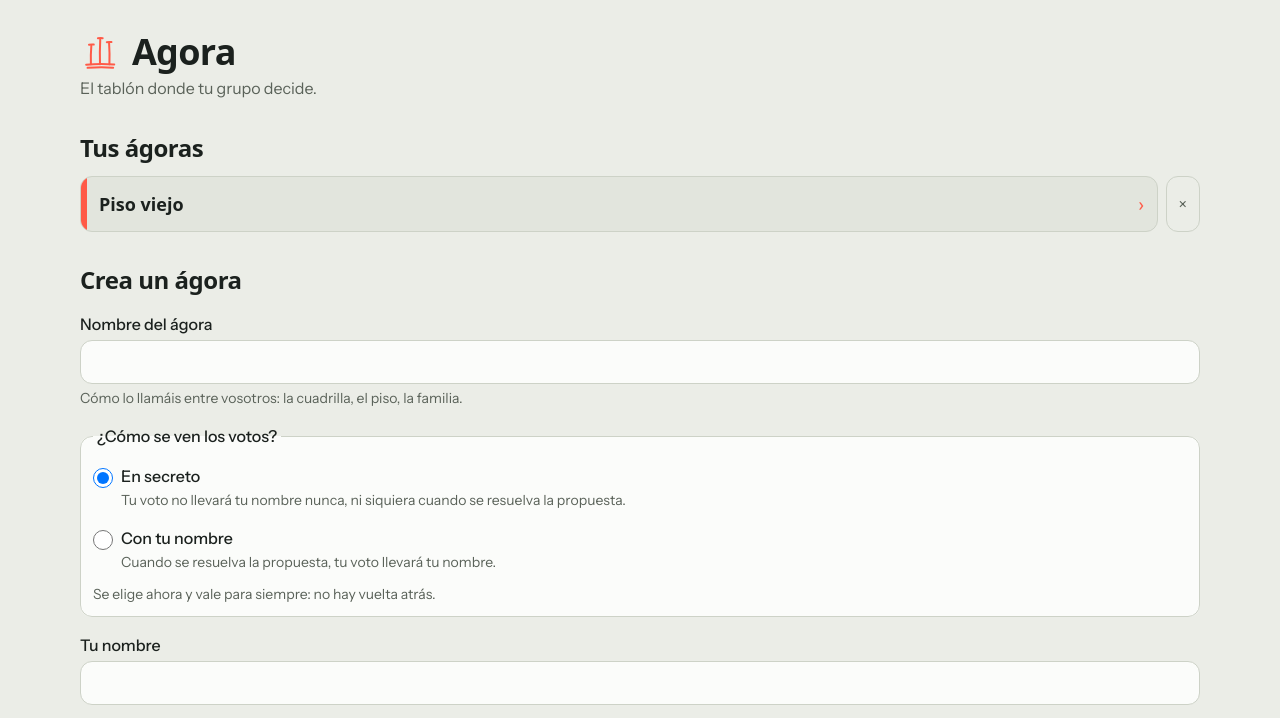
Test: AgoraApp con el adaptador real de ágoras visitadas › quitar una ágora que no se puede guardar avisa y no la borra de la vista
Click the button named "Quitar Piso viejo de tu lista" at (1183, 204), box [1166,176,1200,232]
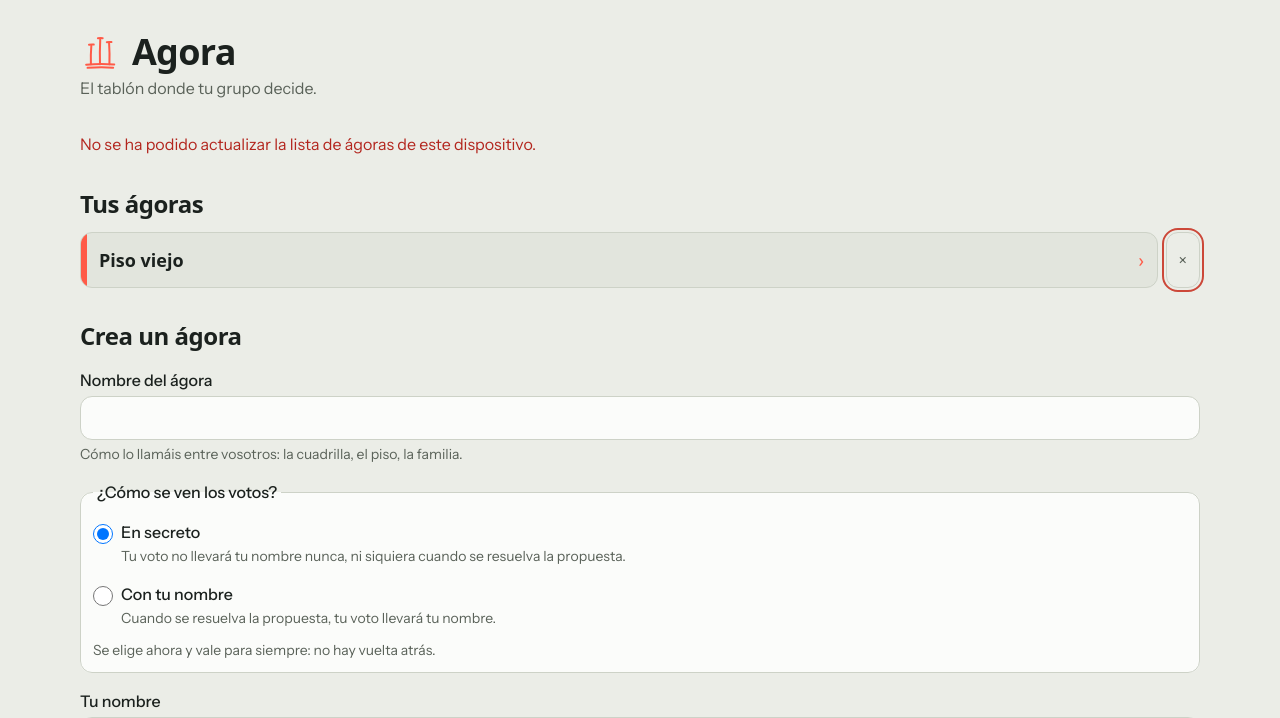
Expected: the list shows "Piso viejo", [80,232,1158,288]
Result: the message reads "No se ha podido actualizar la lista de ágoras de este dispositivo." at [80,134,536,154]
